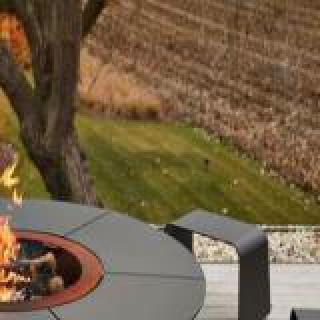fire: (0, 162, 32, 296)
